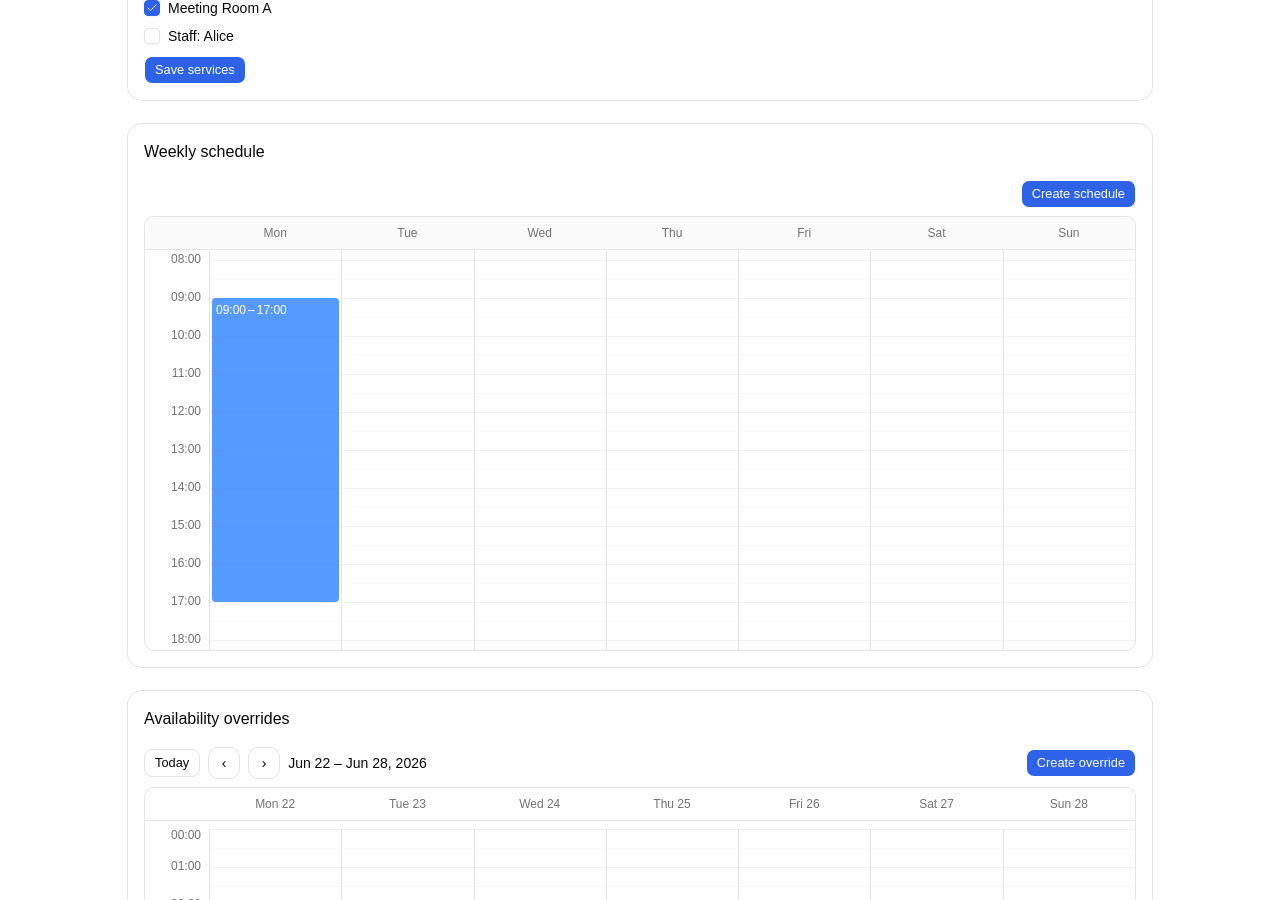
it: Staff › Weekly schedule calendar › deleting from schedule panel removes the block and saves to API
(page scrolled)
What coordinates should you click on to do the following:
click the element with test id "schedule-block"
I would click on:
 (276, 450)
Its box is [212,298,339,602].
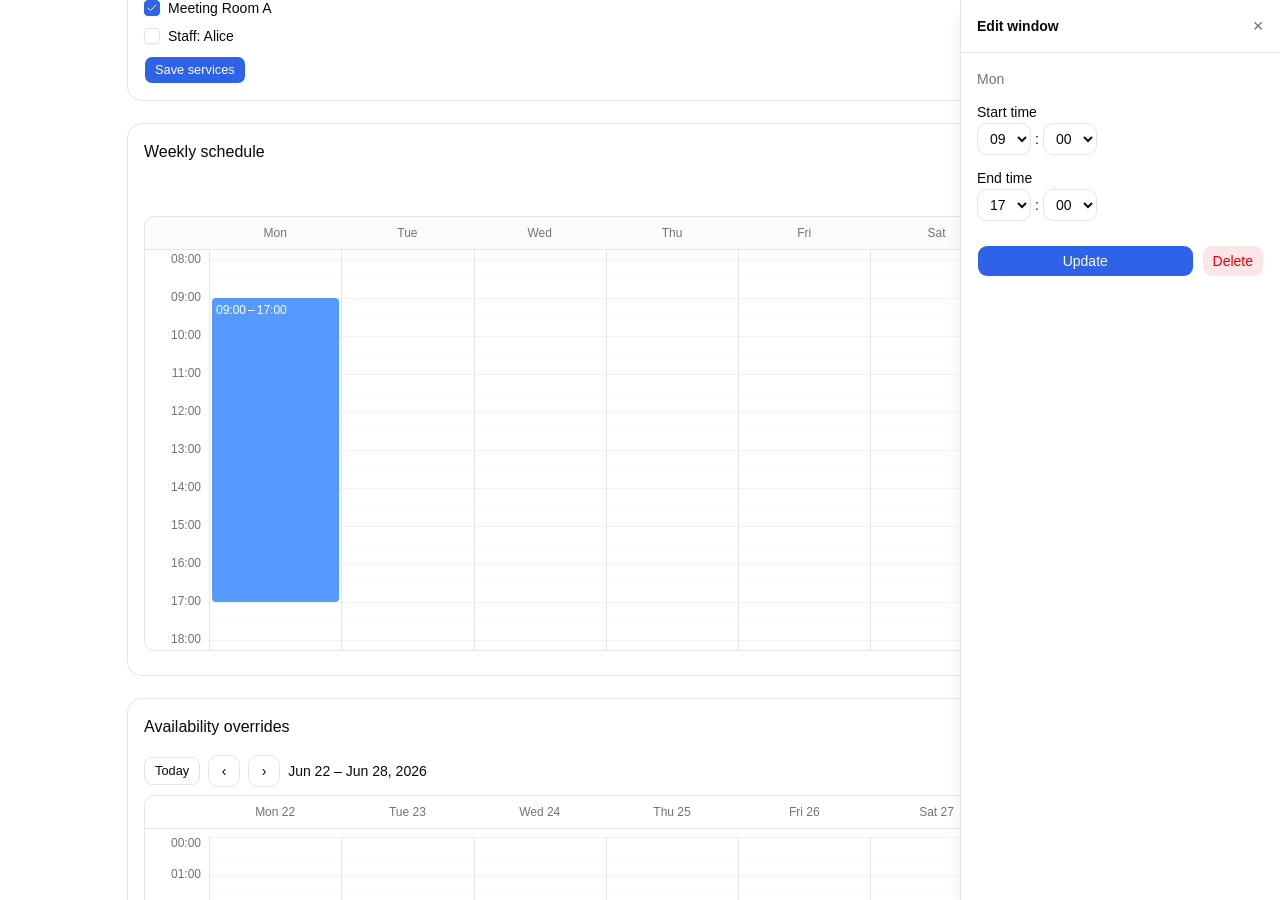
Expected: the element with test id "schedule-window-panel" is shown, [960,0,1279,899]
What coordinates should you click on to do the following:
click the button "Delete"
I would click on:
 (1233, 261)
Its box is [1202,245,1264,277].
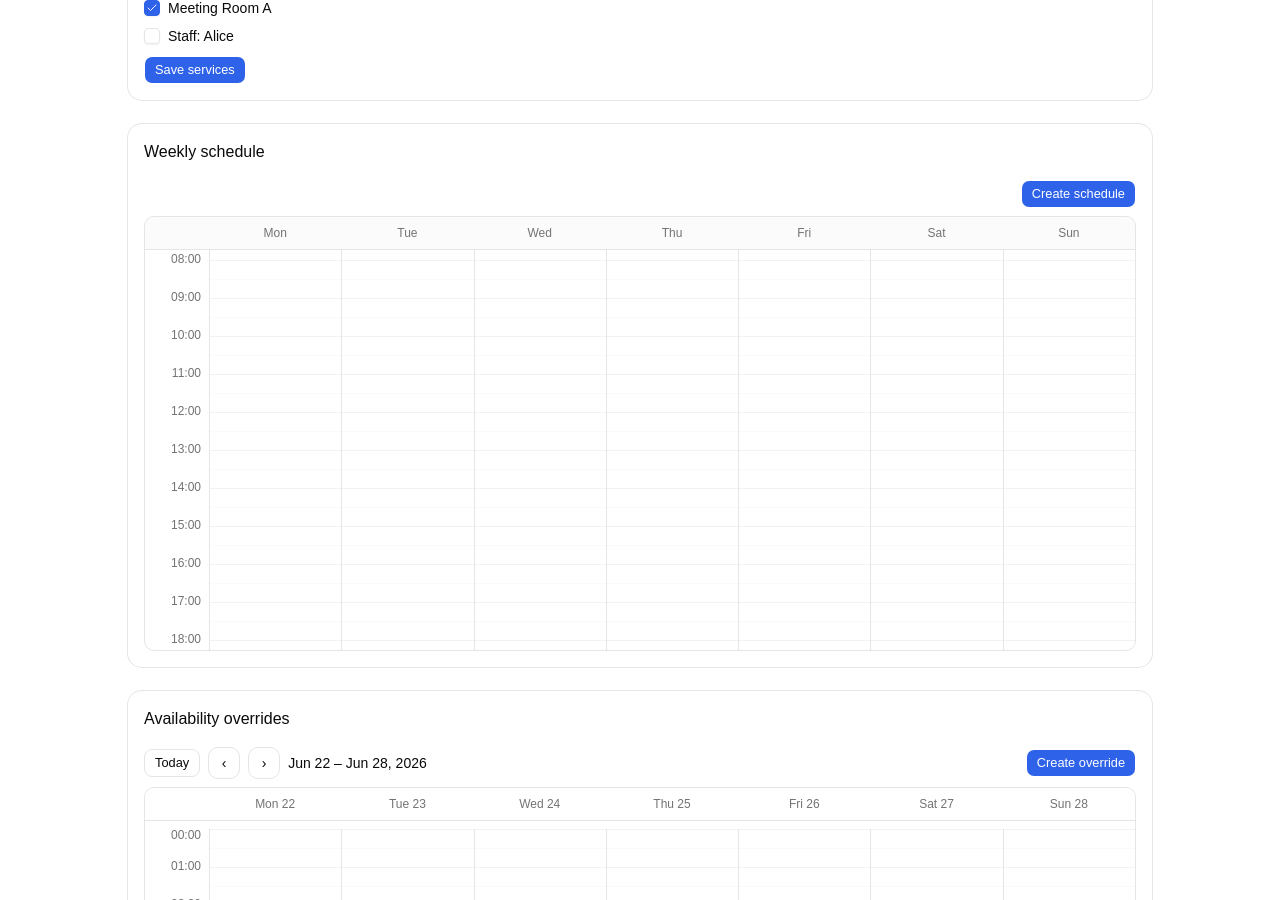
Expected: the element with test id "schedule-block" is gone
